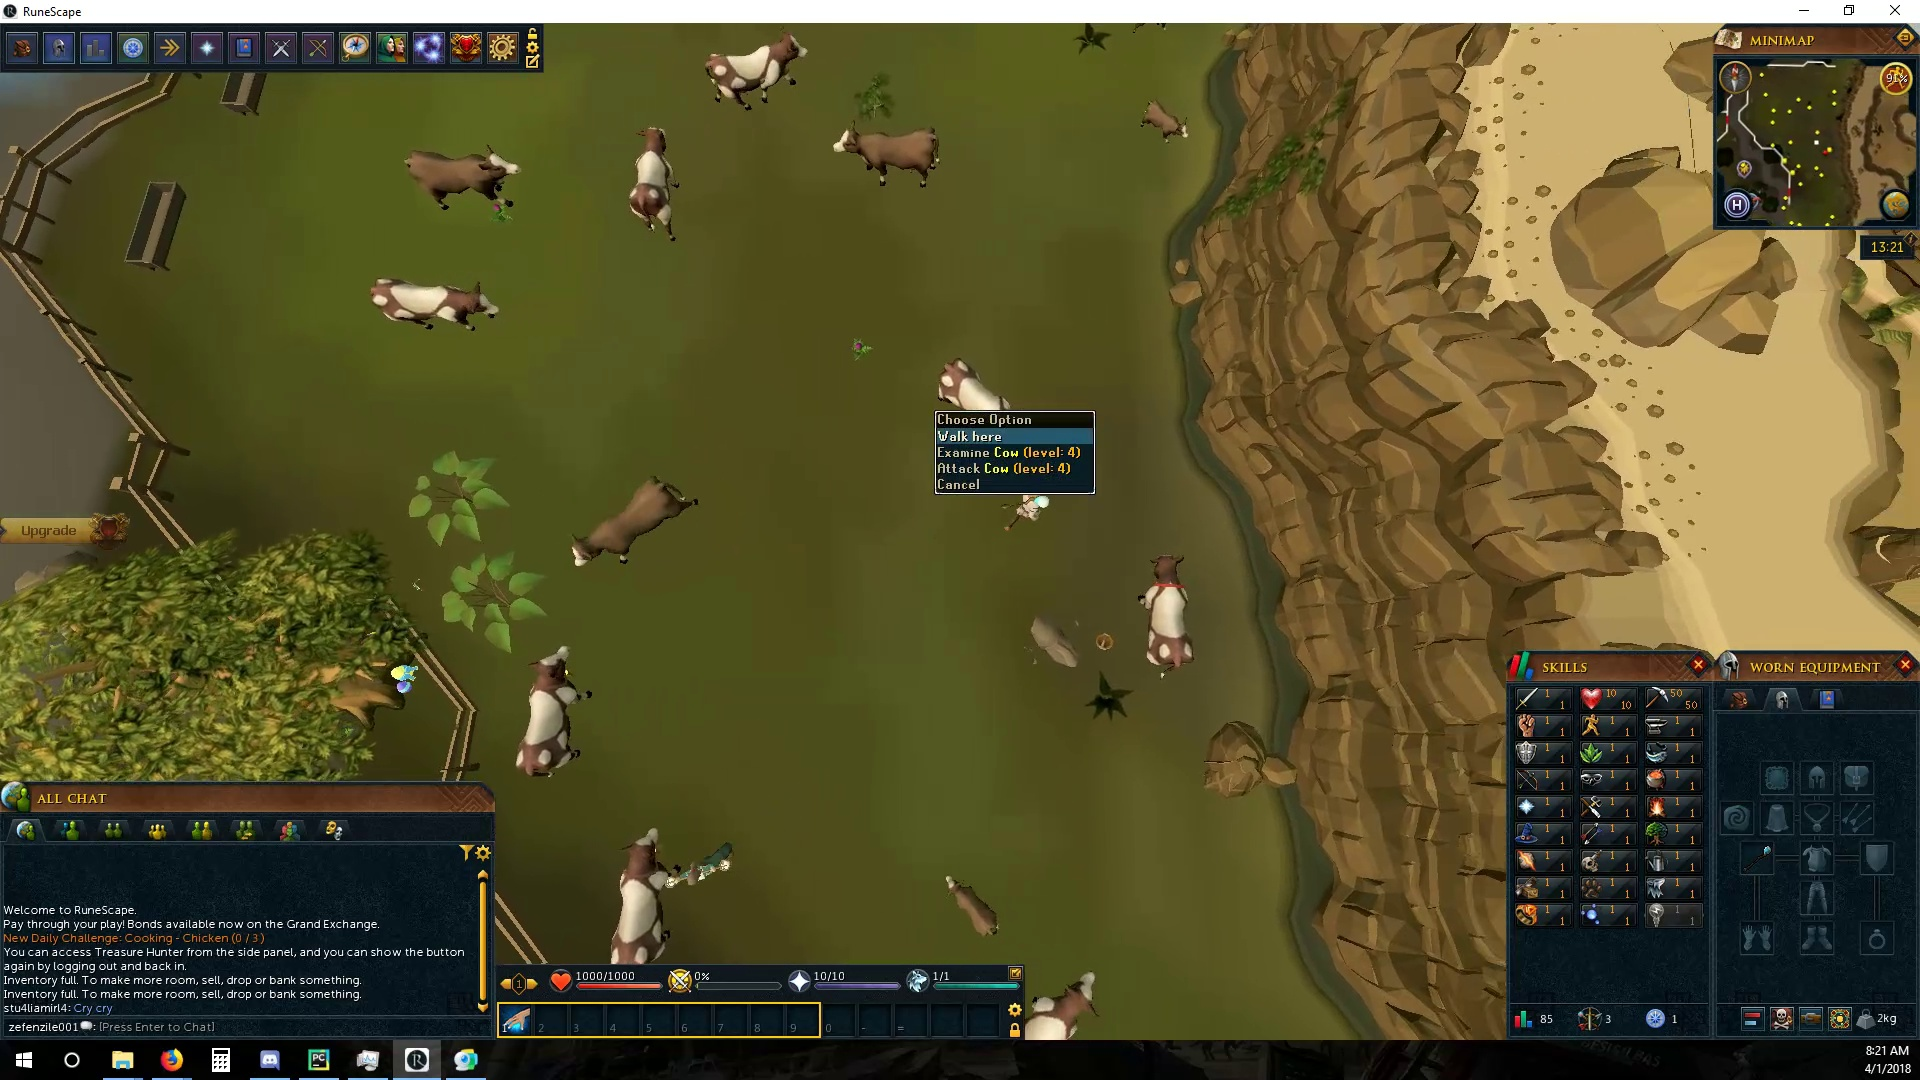calf: (940, 874, 1001, 938), (1138, 98, 1191, 142)
cow: (568, 475, 705, 574), (513, 647, 596, 782), (605, 827, 680, 965), (702, 29, 815, 117), (1133, 553, 1201, 676), (398, 144, 520, 212), (367, 276, 502, 334), (831, 121, 944, 189), (622, 123, 684, 243), (1026, 971, 1105, 1040), (928, 357, 1026, 411)
